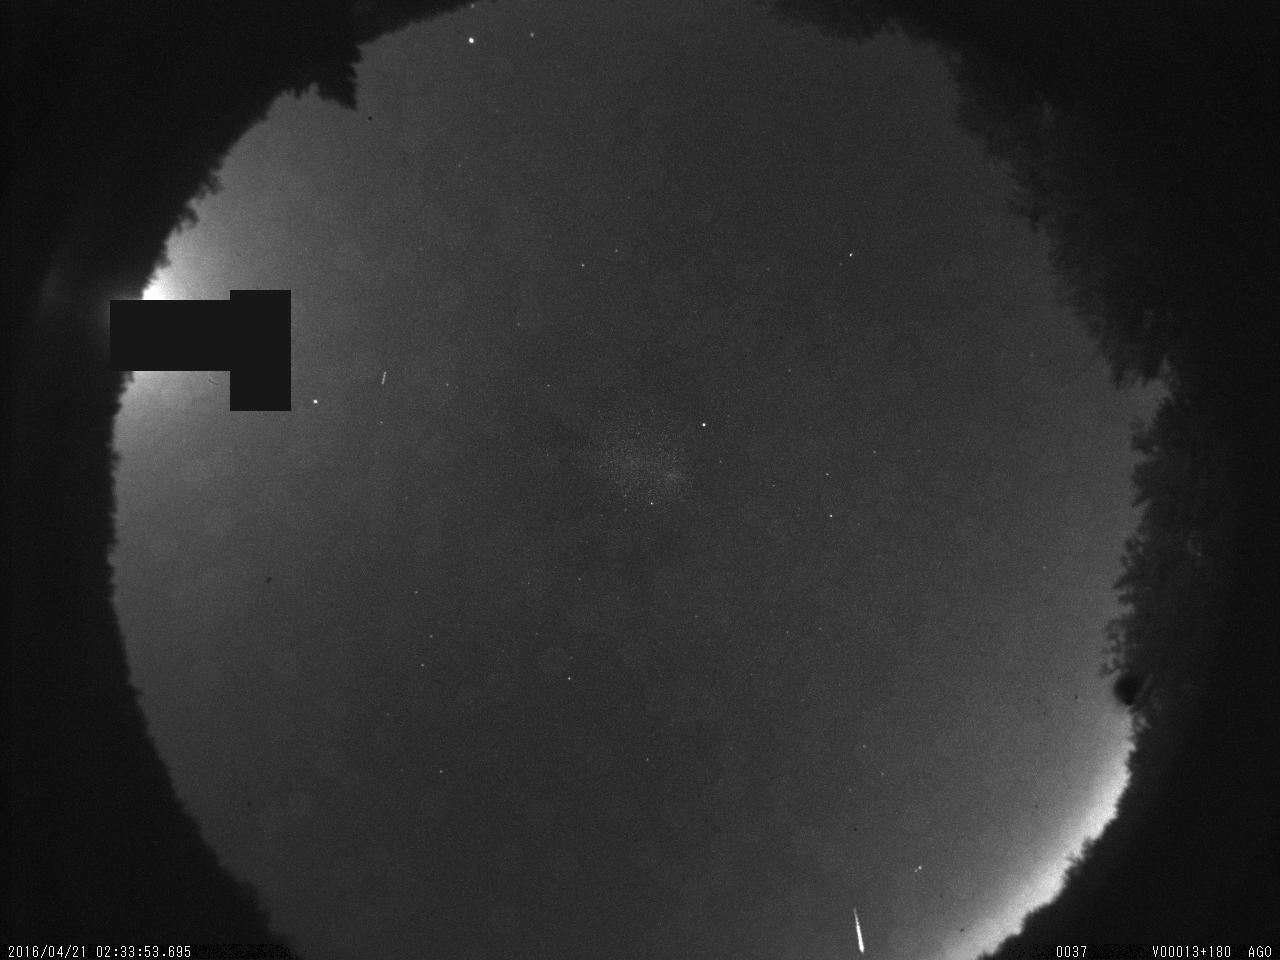meteor: (847, 902, 871, 956), (378, 365, 392, 392)
